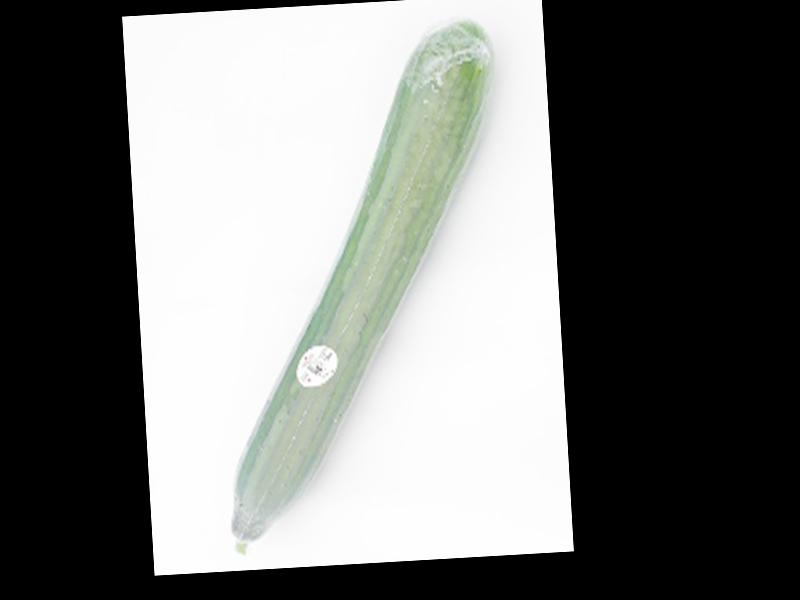Cucumber: (201, 22, 517, 554)
